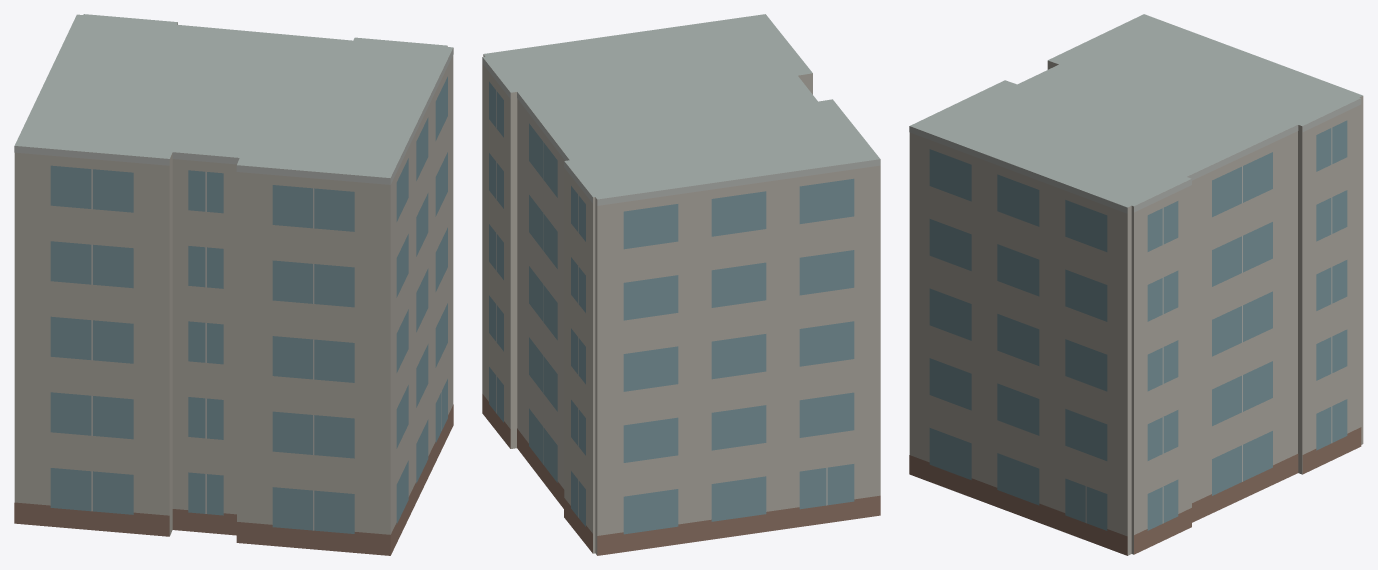
The model's file is survey-upis-32523862.glb.
3 renders of one model, left to right at view 1: azimuth 30°, elevation 25°; view 2: azimuth 150°, elevation 25°; view 3: azimuth 270°, elevation 25°, orthographic. The views are drawn at different scales.
Visible parts, largest first — view 1: survey-upis-32523862.tmp; view 2: survey-upis-32523862.tmp; view 3: survey-upis-32523862.tmp.
Part boxes in pixels (<box>): survey-upis-32523862.tmp: <box>14,14,453,555</box>; survey-upis-32523862.tmp: <box>482,14,880,555</box>; survey-upis-32523862.tmp: <box>909,14,1363,555</box>.
Size of the model in its own units: 16.14 by 13.54 by 16.
